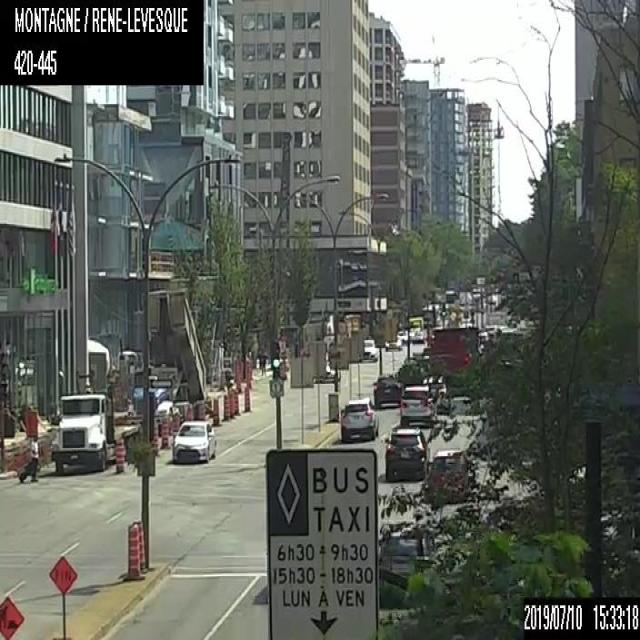construction: (50, 553, 77, 596), (126, 521, 145, 579), (0, 594, 22, 638), (133, 520, 146, 572), (36, 439, 51, 465), (115, 437, 124, 475), (160, 419, 169, 447), (150, 425, 158, 452), (211, 399, 219, 425), (243, 385, 250, 412), (232, 388, 238, 415), (228, 390, 234, 417), (223, 393, 229, 420), (172, 413, 179, 435), (196, 402, 203, 418)
pedestrian: (18, 432, 38, 483), (260, 347, 266, 375)
vehicle: (48, 382, 143, 474), (148, 288, 208, 413), (375, 519, 437, 609), (170, 417, 217, 463), (427, 448, 469, 499), (386, 426, 427, 476), (338, 399, 378, 441), (399, 384, 437, 426), (374, 370, 408, 406), (422, 375, 451, 413), (314, 360, 340, 382), (362, 338, 378, 362), (384, 333, 402, 348), (407, 316, 423, 330), (396, 328, 409, 345), (412, 329, 425, 342)
